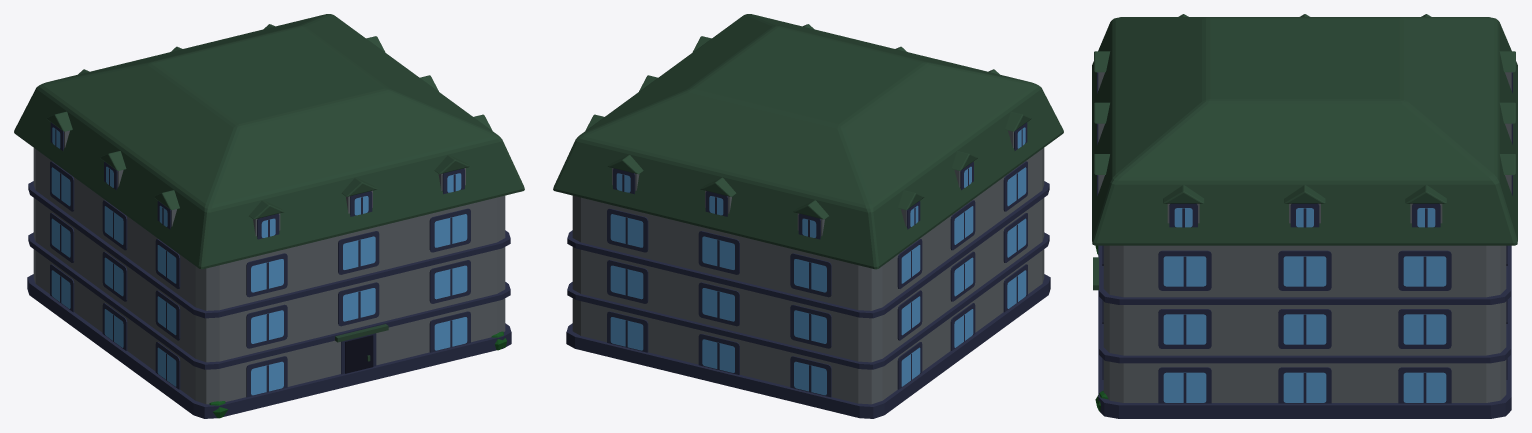
The model's file is house-2x2-3f-mansard-d.glb.
3 renders of one model, left to right at view 1: azimuth 30°, elevation 25°; view 2: azimuth 150°, elevation 25°; view 3: azimuth 270°, elevation 25°, orthographic. The views are drawn at different scales.
Parts seen in each view (by area): view 1: house-2x2-3f-mansard-d; view 2: house-2x2-3f-mansard-d; view 3: house-2x2-3f-mansard-d.
Part boxes in pixels (x1=…): house-2x2-3f-mansard-d: x1=14, y1=14, x2=524, y2=418; house-2x2-3f-mansard-d: x1=553, y1=14, x2=1063, y2=418; house-2x2-3f-mansard-d: x1=1092, y1=14, x2=1517, y2=418.
Size of the model in its own units: 1.99 by 1.41 by 1.99.
1 material, 1 textured.
